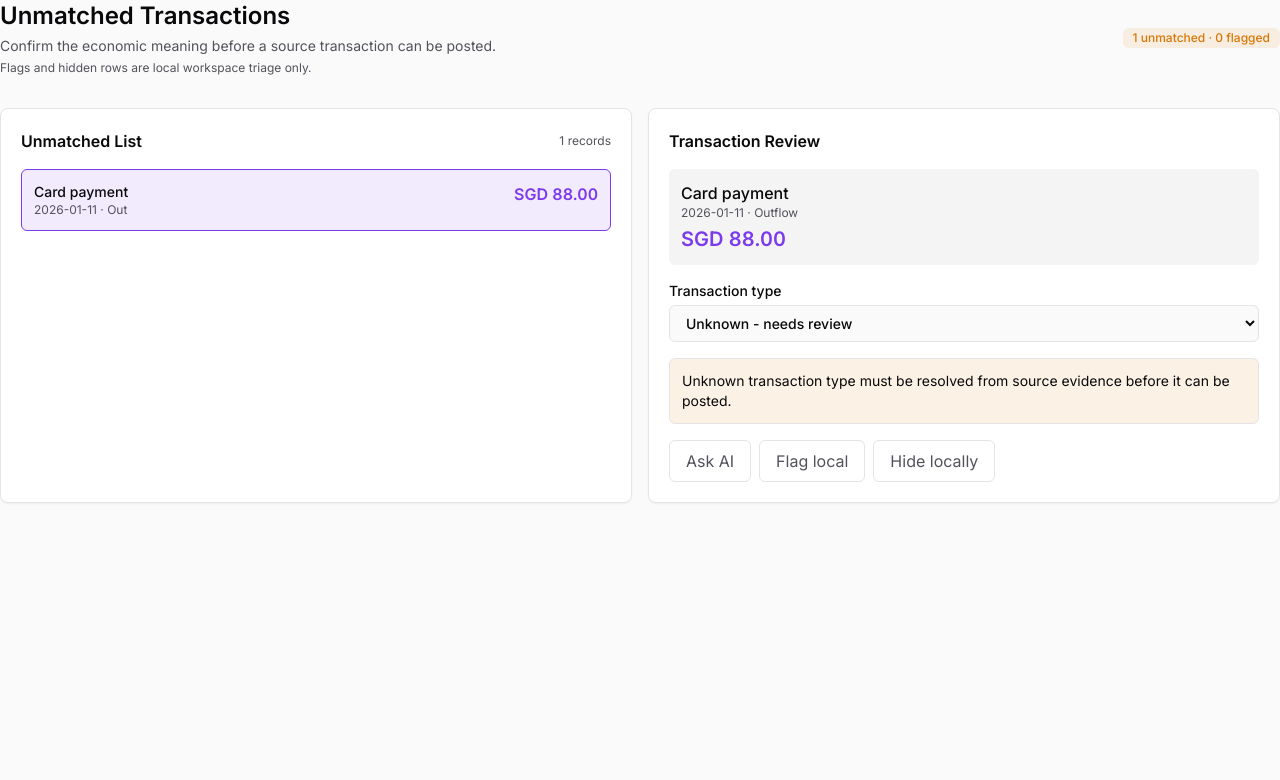
Test: UnmatchedBoard › AC-reconciliation.first-use.1 preserves review after failed or cancelled account creation
The width and height of the screenshot is (1280, 780).
Step 1. Select "Expense" in the dropdown labelled "Transaction type" → (964, 324), box [669,305,1259,342]
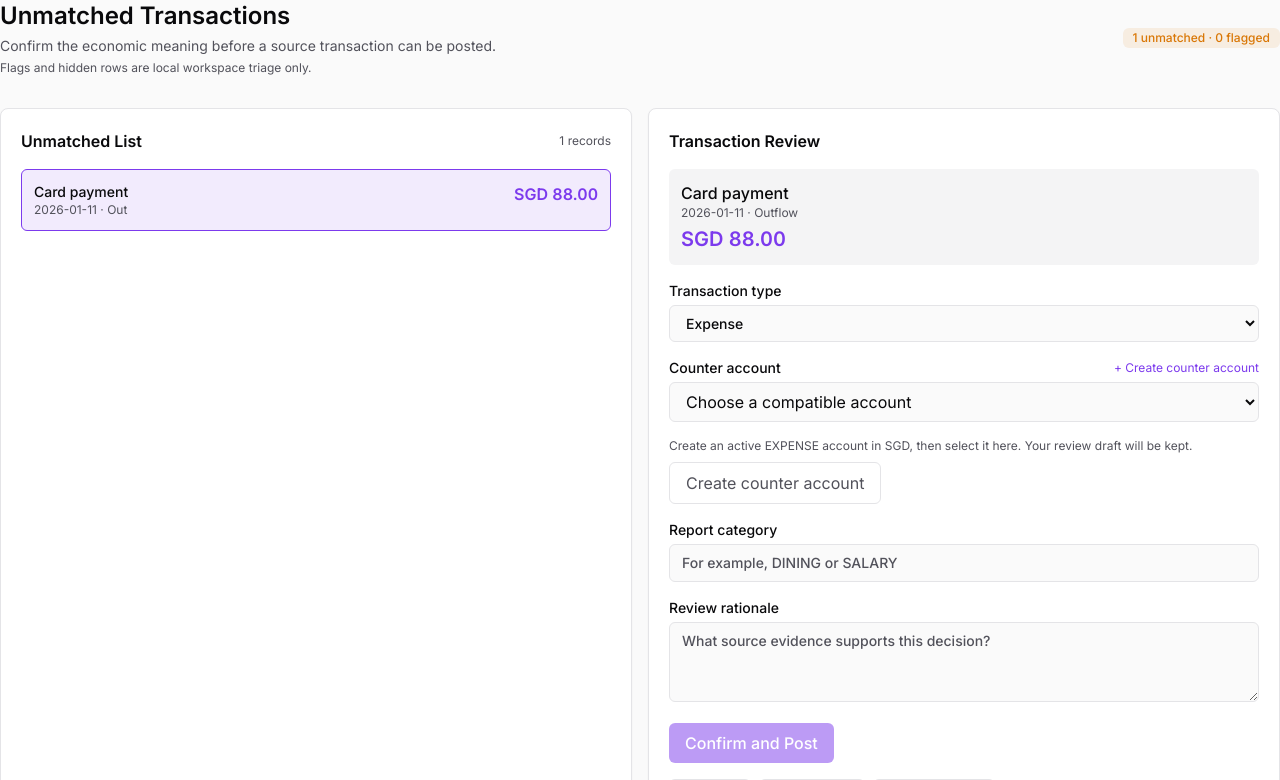
Step 2. Type "DINING" into the field labelled "Report category" → (964, 563), box [669,544,1259,582]
Step 3. Type "Receipt reviewed." into the text box labelled "Review rationale" → (964, 662), box [669,622,1259,702]
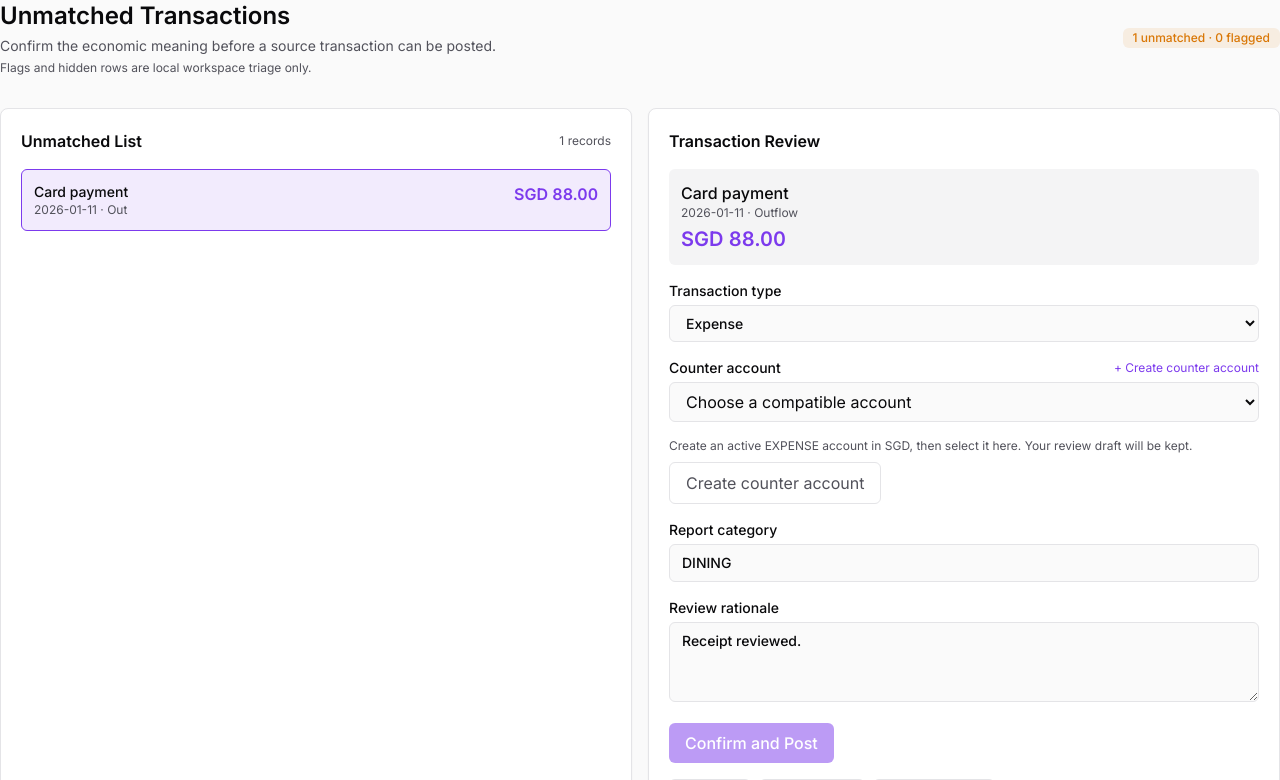
Step 4. Click the button "Create counter account" → (775, 483), box [669,462,881,504]
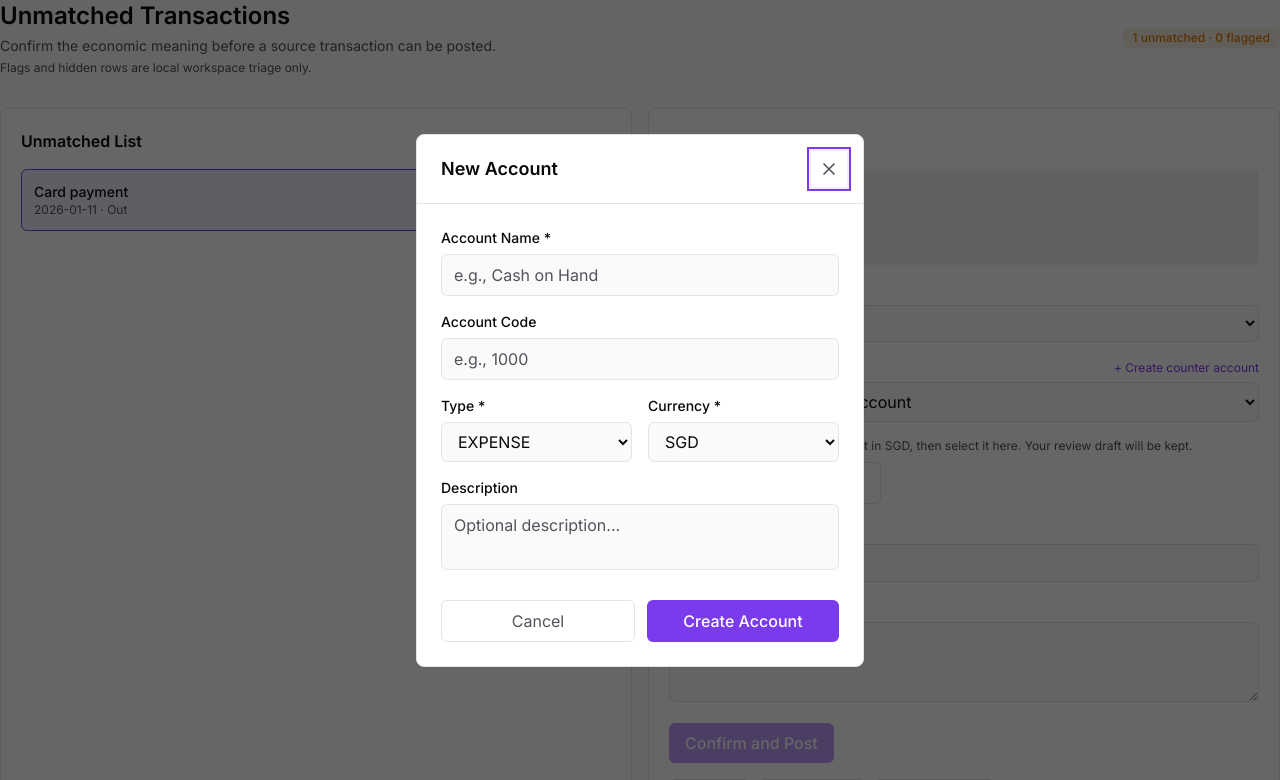
Step 5. Type "Dining" into the field with placeholder "e.g., Cash on Hand" → (640, 274), box [441,254,839,296]
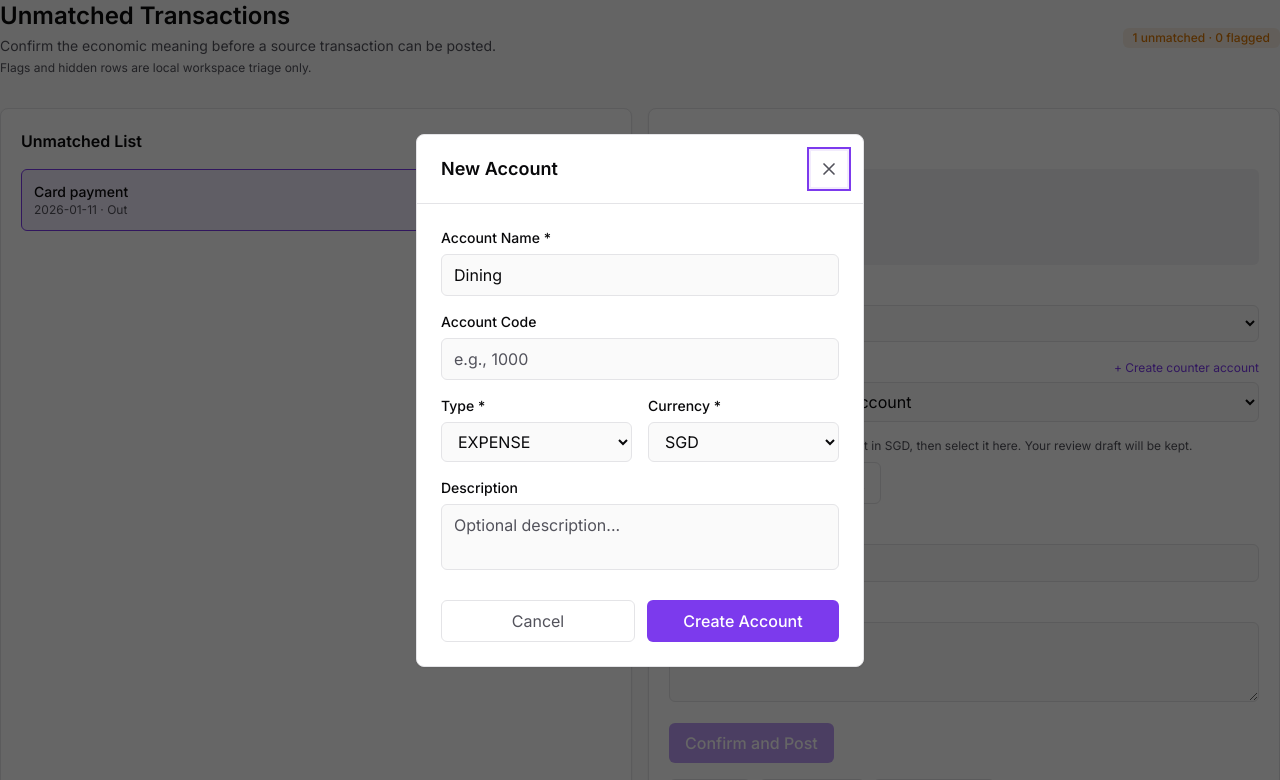
Step 6. Click the button "Create Account" → (743, 620), box [647,600,839,642]
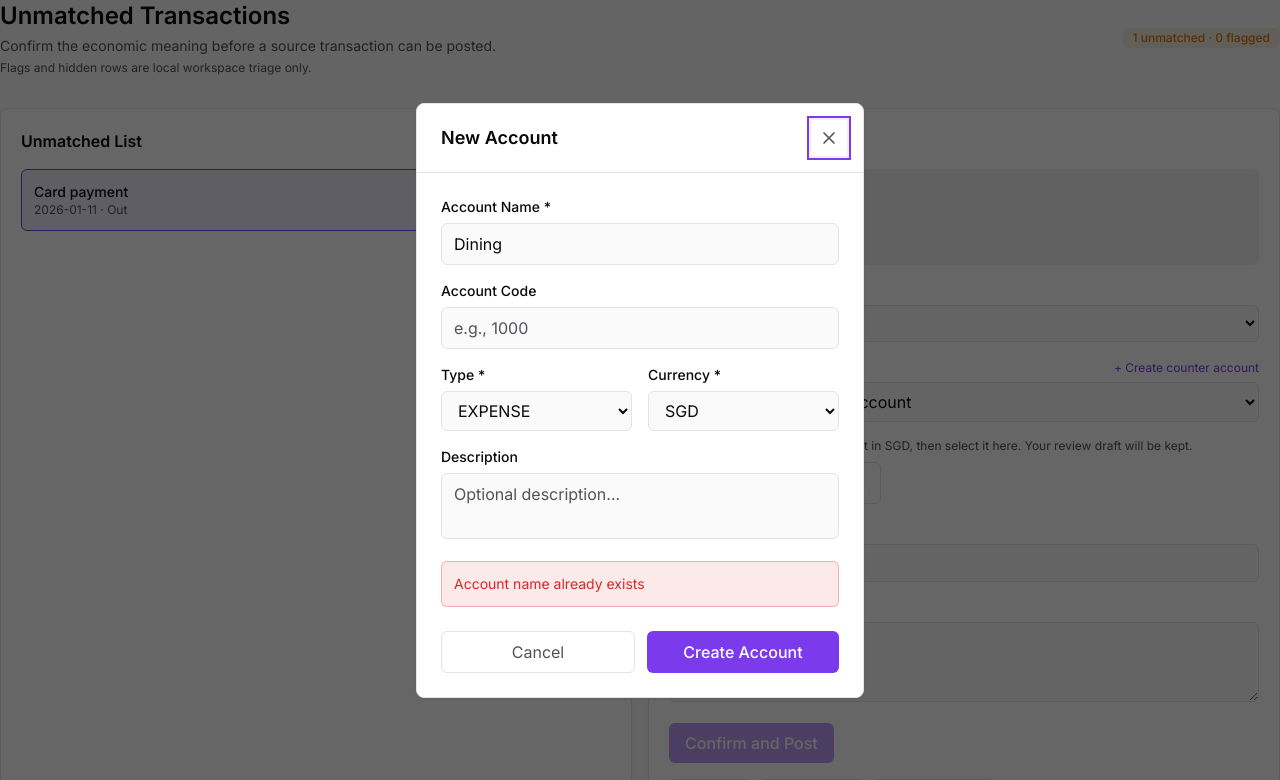
Now the text "Account name already exists" is shown, box [441,560,839,606]
Step 7. Click the button "Cancel" → (538, 652), box [441,630,635,672]
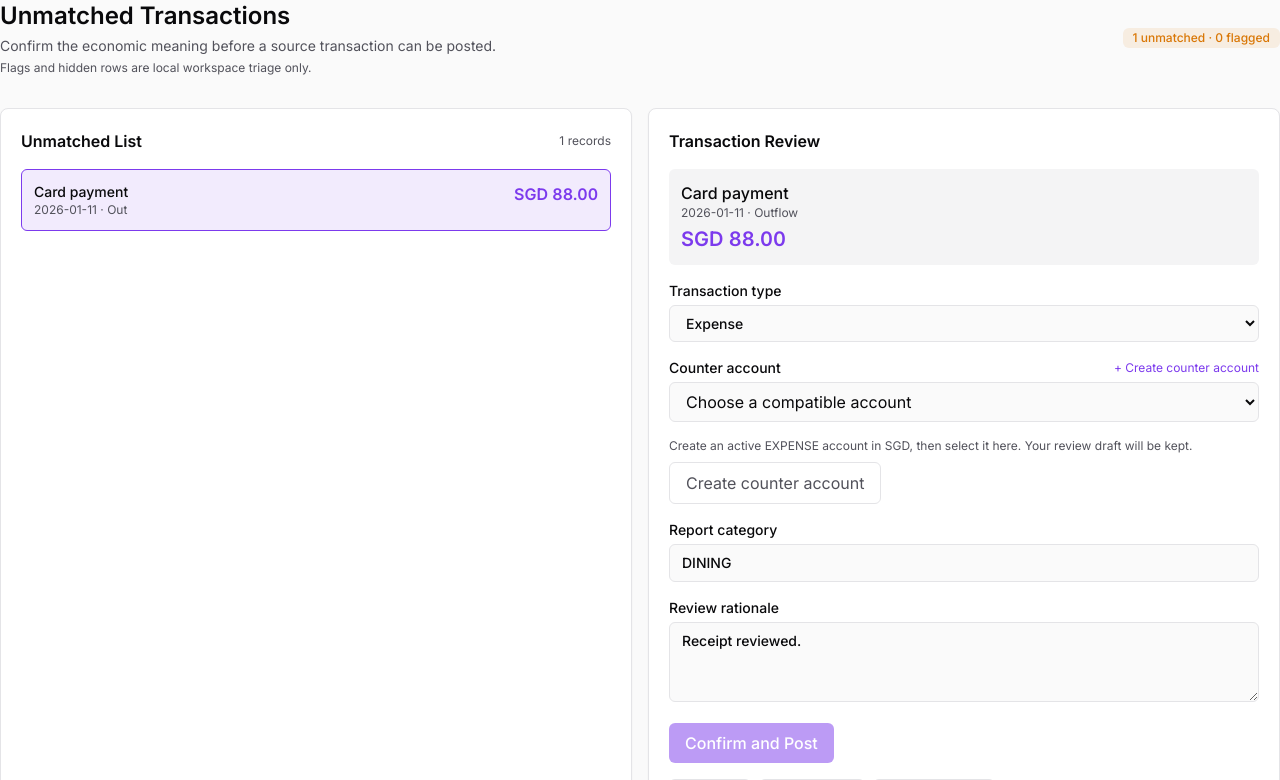
Now the button "Confirm and Post" is disabled, box [669,723,834,763]
Now the dialog is gone
